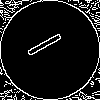I: (25, 25, 72, 60)
